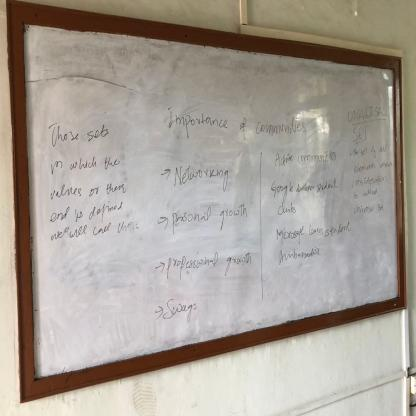Handwritten text: (162, 100, 308, 145), (163, 248, 256, 287), (169, 199, 250, 239), (44, 117, 116, 150), (50, 220, 136, 247), (271, 215, 352, 243), (43, 199, 132, 221), (47, 152, 123, 176), (172, 162, 232, 192), (268, 178, 340, 202), (51, 178, 129, 200), (347, 100, 386, 142), (271, 147, 338, 171), (162, 290, 201, 327), (278, 244, 326, 272), (350, 196, 394, 217), (348, 142, 387, 161), (355, 173, 396, 189), (349, 160, 396, 173), (275, 200, 304, 220), (351, 187, 386, 200)
Whiteboard: (17, 10, 404, 384)
